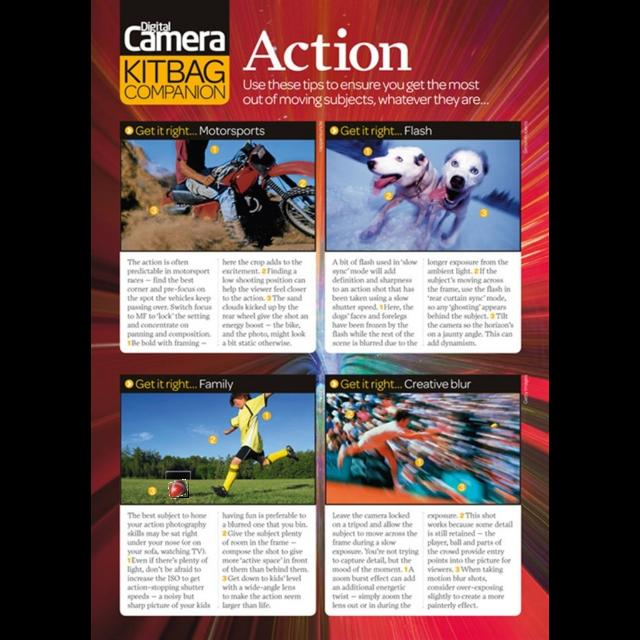Football: (169, 480, 189, 498)
